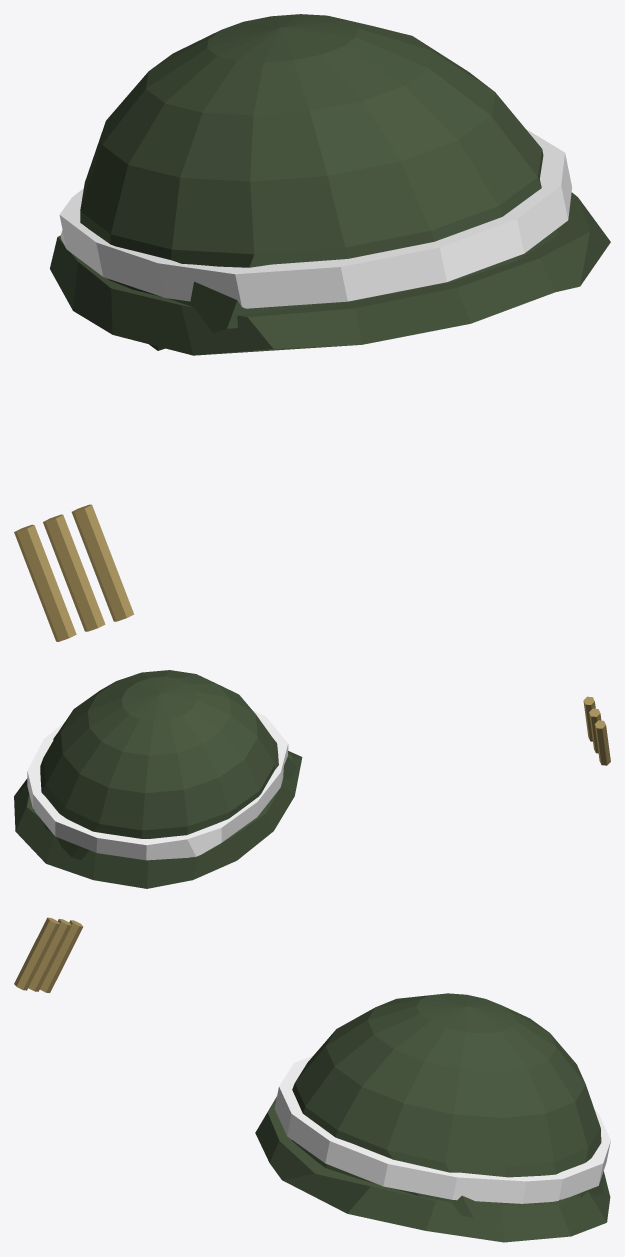
The model's file is m1_rounds.glb.
The picture shows the model from 3 angles, top to bottom: view 1: azimuth 30°, elevation 25°; view 2: azimuth 150°, elevation 25°; view 3: azimuth 270°, elevation 25°; orthographic projection. The views are drawn at different scales.
Parts seen in each view (by area): view 1: helmet_rounds_cover, helmet_rounds_band, helmet_rounds_rounds; view 2: helmet_rounds_cover, helmet_rounds_band, helmet_rounds_rounds; view 3: helmet_rounds_cover, helmet_rounds_band, helmet_rounds_rounds.
Boxes of the visible parts, x1,y1,x2,y2 form: helmet_rounds_cover: (50, 14, 610, 355); helmet_rounds_band: (59, 129, 572, 308); helmet_rounds_rounds: (14, 504, 134, 641); helmet_rounds_cover: (14, 670, 302, 888); helmet_rounds_band: (27, 710, 288, 860); helmet_rounds_rounds: (583, 696, 610, 765); helmet_rounds_cover: (255, 993, 610, 1242); helmet_rounds_band: (274, 1055, 610, 1203); helmet_rounds_rounds: (14, 917, 83, 992).
Size of the model in its own units: 0.4184 by 0.1396 by 0.4064.
